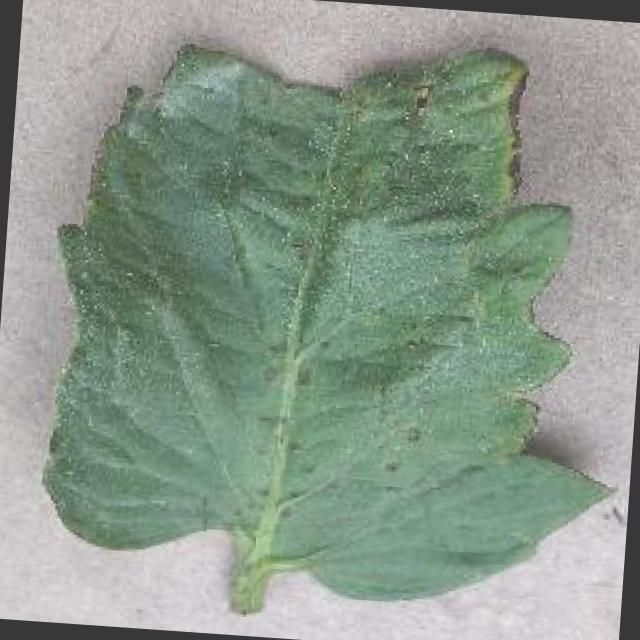bacterial spot: (37, 39, 617, 607)
